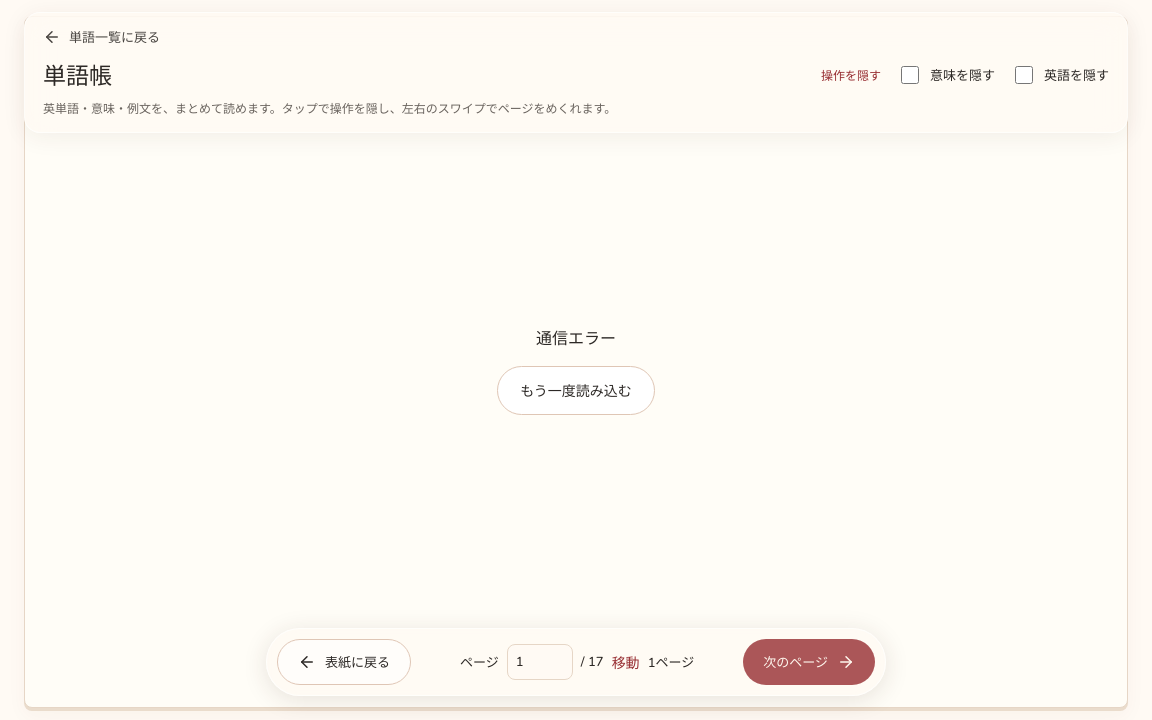
it: lets a failed page be retried without advancing
Expected: the message "通信エラー もう一度読み込む" is shown, top-left (497, 328), bottom-right (655, 415)
Step 1. Click the button "もう一度読み込む" → coordinates (576, 390), box top-left (497, 366), bottom-right (655, 415)
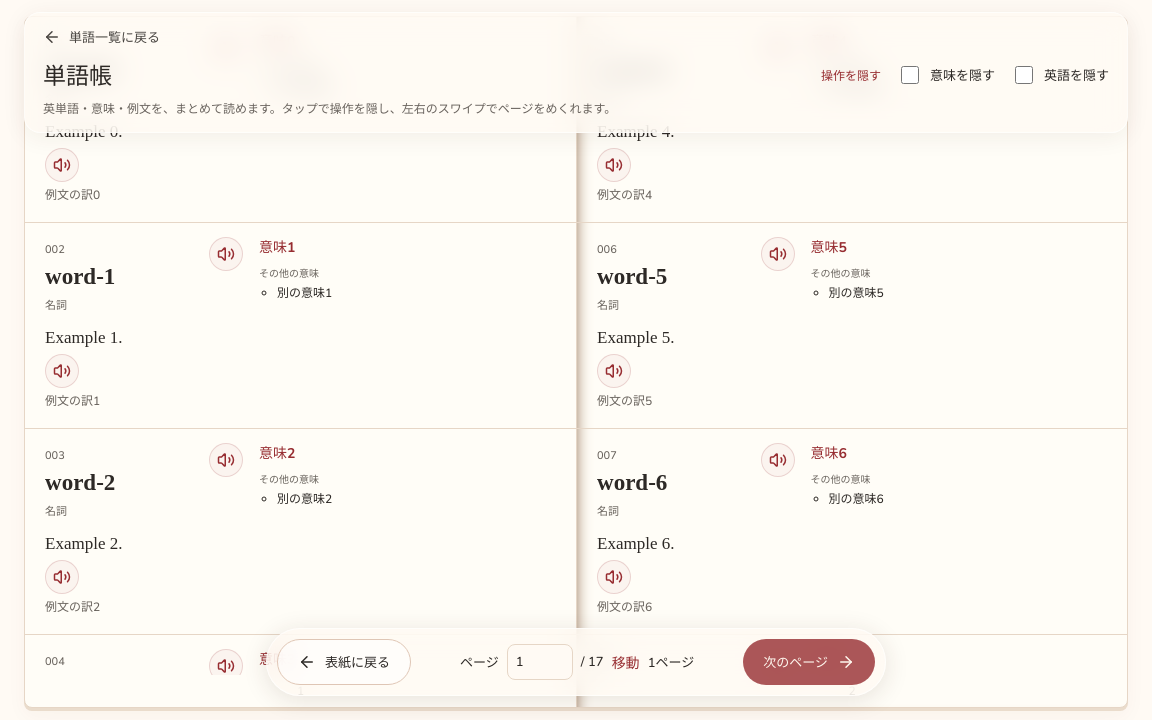
Now the number of list items with class "book-entry" is 8
